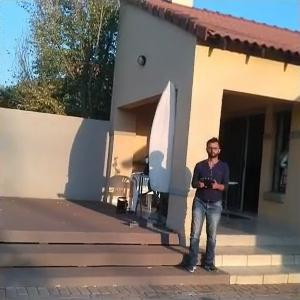follow: (181, 133, 230, 276)
